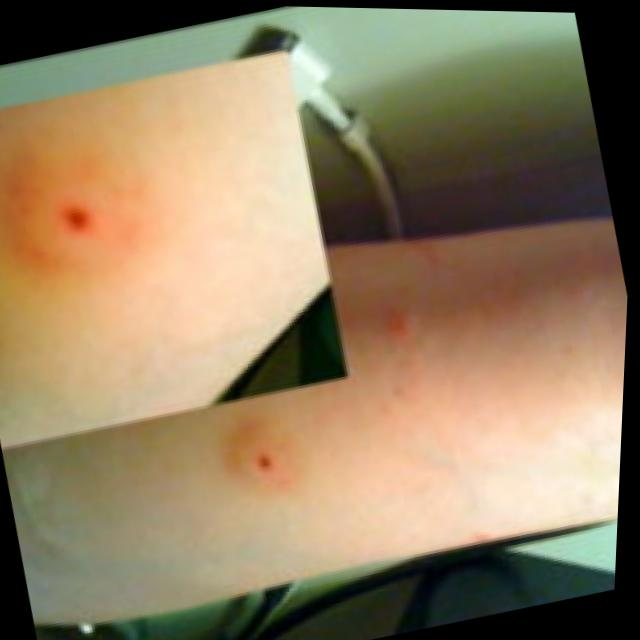Erythema chronicum migrans: (0, 123, 166, 302), (202, 398, 330, 512)
